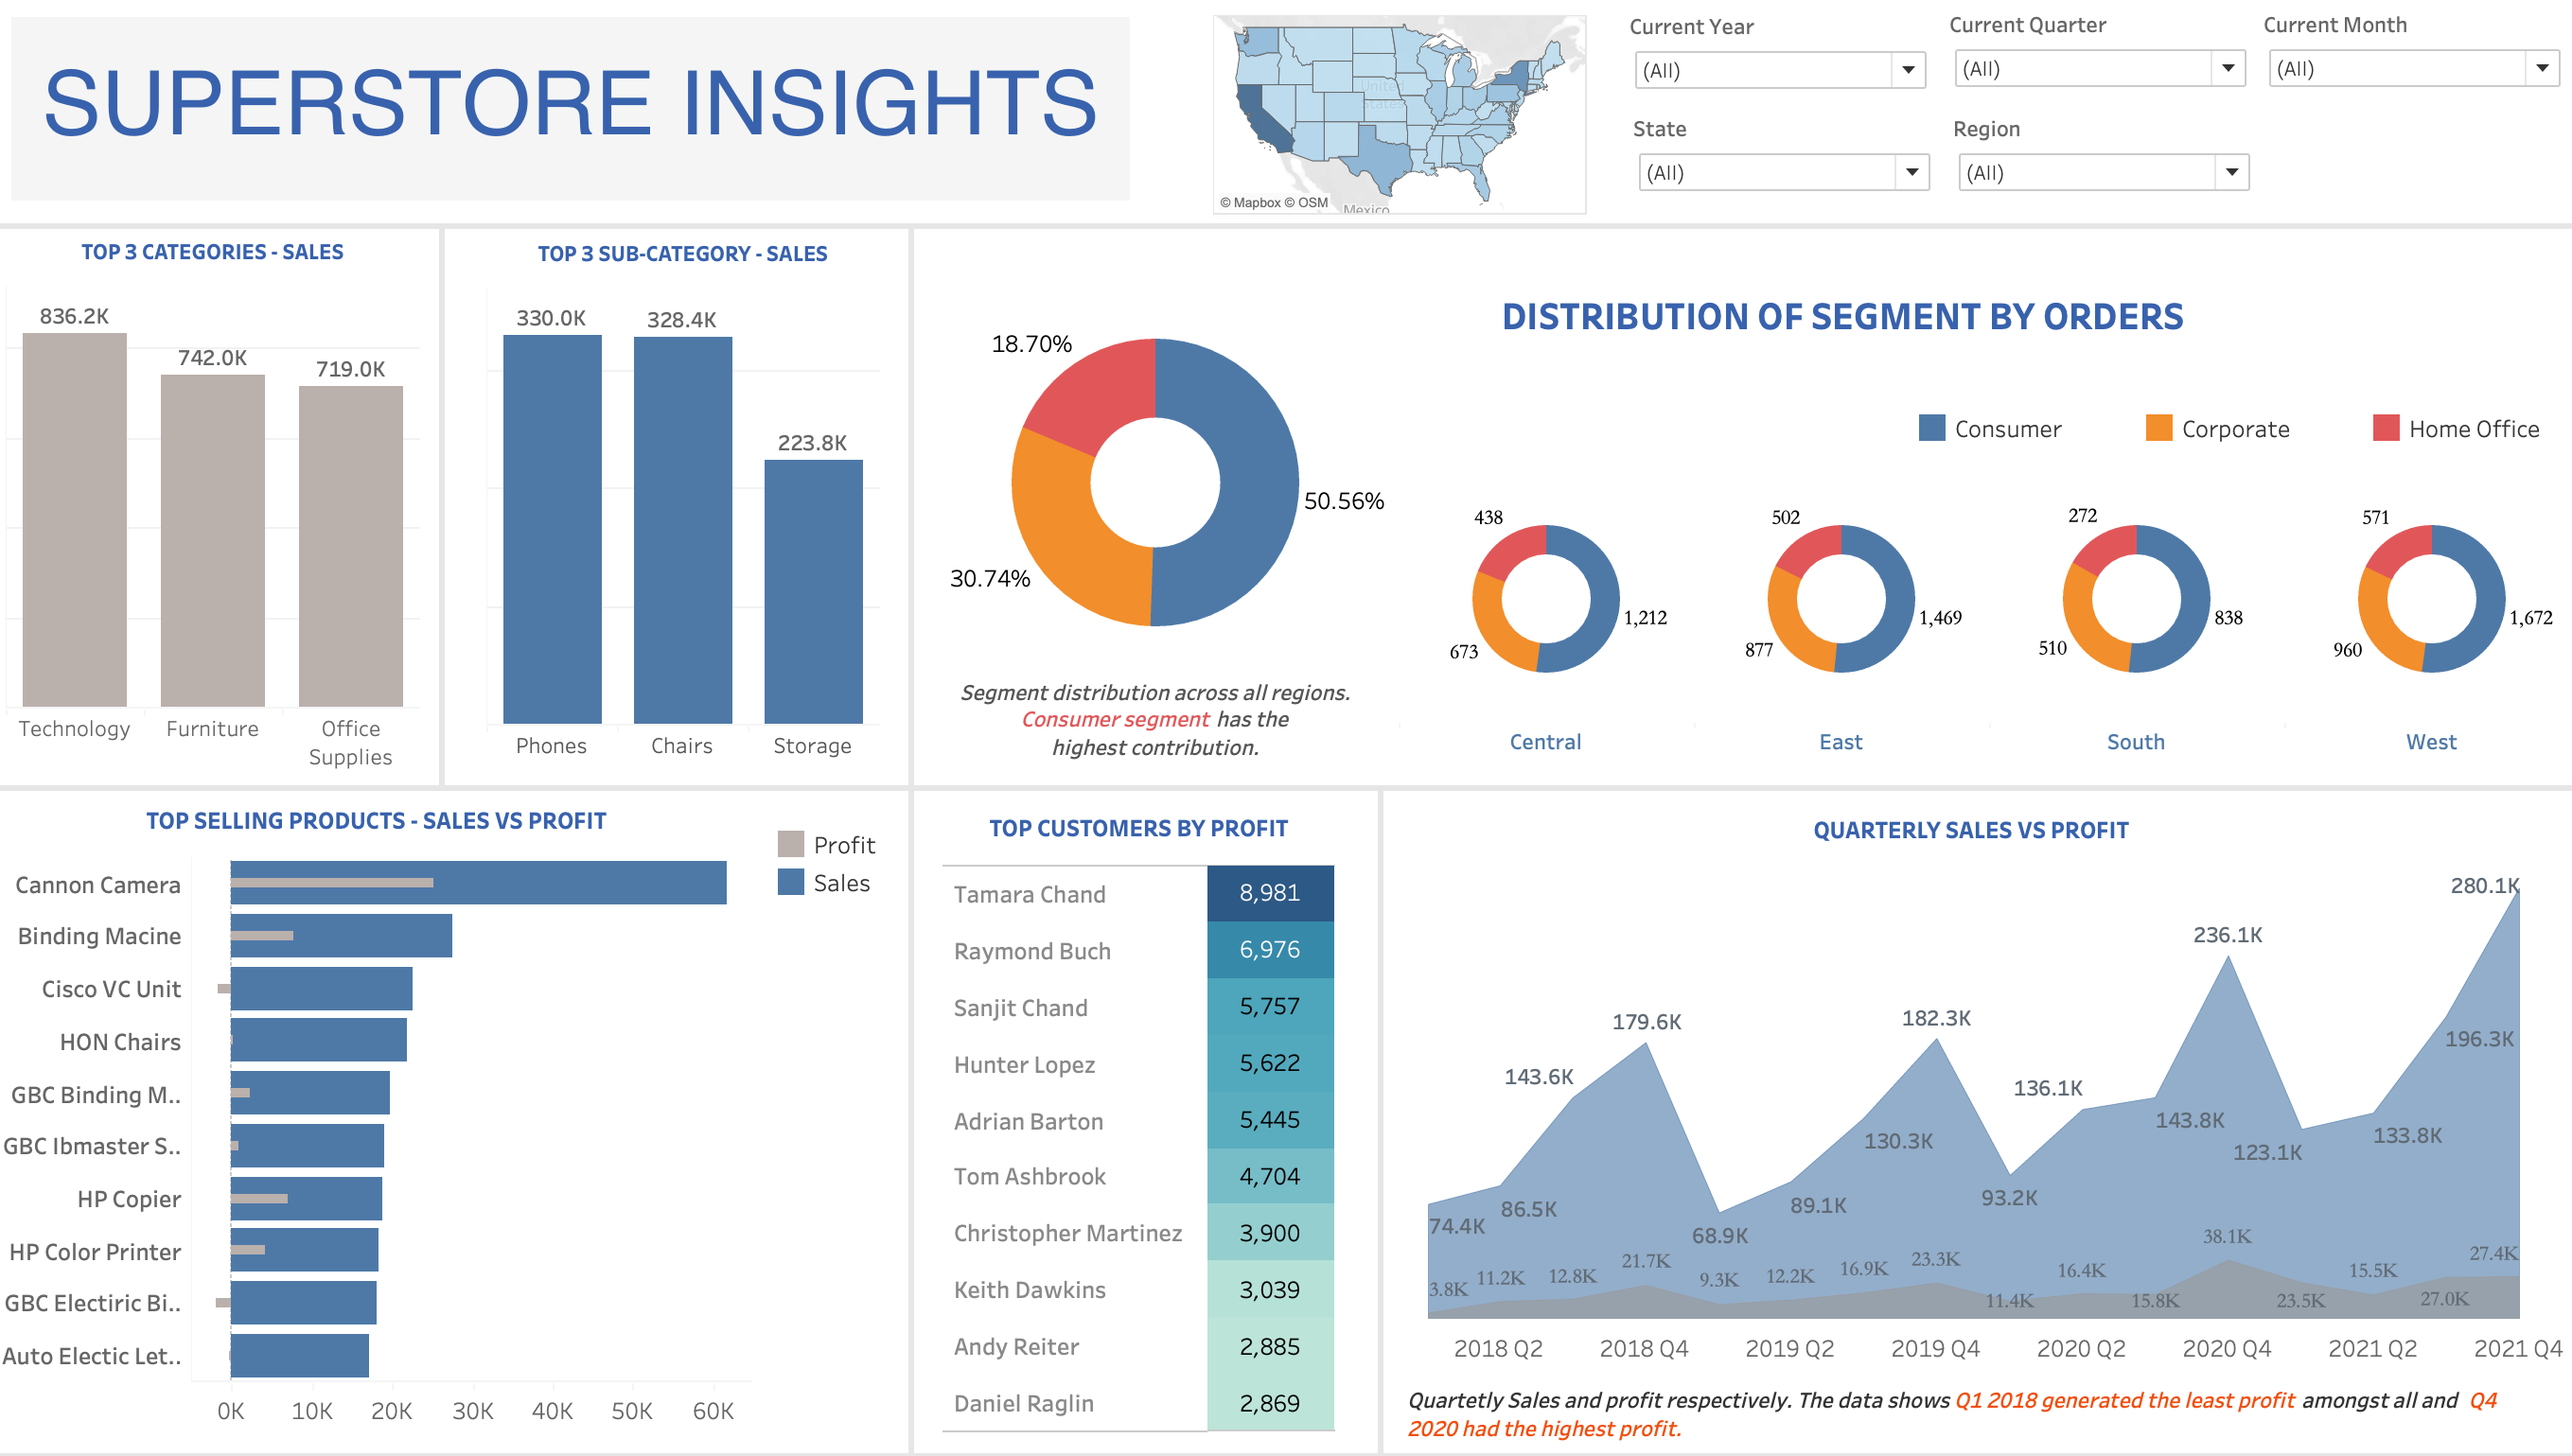

The dashboard page shown, as its layout file describes it:
{"tool":"tableau","page":{"name":"Dashboard 1","canvas":[1366,768],"ordinal":0},"visuals":[{"type":"filter","title":"salevsprofit","param":"[federated.1i0ysrr09gpvkl1dki29y0dqn5mm].[qr:Order Date:ok]","box":[1033,5,160,62]},{"type":"filter","title":"salevsprofit","param":"[federated.1i0ysrr09gpvkl1dki29y0dqn5mm].[mn:Order Date:ok]","box":[1199,5,160,66]},{"type":"filter","title":"salevsprofit","param":"[federated.1i0ysrr09gpvkl1dki29y0dqn5mm].[yr:Order Date:ok]","box":[864,6,160,56]},{"type":"worksheet","title":"distribution_sales","mark":"Automatic","box":[644,8,198,106]},{"type":"text","box":[9,9,591,97]},{"type":"filter","title":"salevsprofit","param":"[federated.1i0ysrr09gpvkl1dki29y0dqn5mm].[none:State:nk]","box":[866,60,160,70]},{"type":"filter","title":"salevsprofit","param":"[federated.1i0ysrr09gpvkl1dki29y0dqn5mm].[none:Region:nk]","box":[1035,60,160,50]},{"type":"worksheet","title":"Sheet 9","mark":"Pie","rows":["Calculation_890657197516079106","Calculation_890657197516079106"],"box":[491,103,245,289]},{"type":"blank","box":[235,119,3,297]},{"type":"blank","box":[483,120,3,297]},{"type":"worksheet","title":"top_category","mark":"Automatic","rows":["Sales"],"cols":["Category"],"box":[6,121,219,293]},{"type":"worksheet","title":"t3_subcategory","mark":"Bar","rows":["Sales"],"cols":["Sub-Category"],"box":[260,122,208,281]},{"type":"text","box":[765,143,424,46]},{"type":"worksheet","title":"segment_distribution","mark":"Pie","rows":["Calculation_890657197516079106","Calculation_890657197516079106"],"cols":["Region"],"box":[742,252,624,149]},{"type":"text","box":[499,357,229,46]},{"type":"blank","box":[483,379,3,387]},{"type":"blank","box":[731,416,3,353]},{"type":"legend","title":"top_selling_product","param":"[federated.1i0ysrr09gpvkl1dki29y0dqn5mm].[:Measure Names]","box":[411,418,77,58]},{"type":"worksheet","title":"top_selling_product","mark":"Automatic","rows":["Product Name"],"box":[4,421,415,339]},{"type":"worksheet","title":"revenue_contribution","mark":"Square","rows":["Customer Name"],"box":[501,425,208,332]},{"type":"worksheet","title":"salevsprofit","mark":"Area","rows":["Sales","Profit"],"cols":["Order Date"],"box":[729,426,634,301]},{"type":"text","box":[744,727,600,40]}]}

Visuals, with their boxes in screenshot pixels (x1, y1, x2, y2), scaled from the page's 1366x768 canvas onto the 2572x1456 screenshot:
"salevsprofit" filter: pyautogui.locateOnScreen(1945, 9, 2246, 127)
"salevsprofit" filter: pyautogui.locateOnScreen(2258, 9, 2559, 134)
"salevsprofit" filter: pyautogui.locateOnScreen(1627, 11, 1929, 117)
"distribution_sales" worksheet: pyautogui.locateOnScreen(1212, 15, 1585, 216)
text: pyautogui.locateOnScreen(17, 17, 1130, 201)
"salevsprofit" filter: pyautogui.locateOnScreen(1630, 114, 1931, 247)
"salevsprofit" filter: pyautogui.locateOnScreen(1948, 114, 2250, 208)
"Sheet 9" worksheet (Pie marks): pyautogui.locateOnScreen(925, 195, 1385, 744)
blank: pyautogui.locateOnScreen(443, 225, 449, 789)
blank: pyautogui.locateOnScreen(909, 227, 915, 791)
"top_category" worksheet: pyautogui.locateOnScreen(11, 229, 424, 785)
"t3_subcategory" worksheet (Bar marks): pyautogui.locateOnScreen(489, 231, 881, 764)
text: pyautogui.locateOnScreen(1440, 272, 2239, 359)
"segment_distribution" worksheet (Pie marks): pyautogui.locateOnScreen(1397, 478, 2571, 761)
text: pyautogui.locateOnScreen(940, 676, 1371, 764)
blank: pyautogui.locateOnScreen(909, 718, 915, 1452)
blank: pyautogui.locateOnScreen(1377, 789, 1382, 1455)
"top_selling_product" legend: pyautogui.locateOnScreen(774, 793, 919, 903)
"top_selling_product" worksheet: pyautogui.locateOnScreen(8, 798, 789, 1441)
"revenue_contribution" worksheet (Square marks): pyautogui.locateOnScreen(943, 806, 1335, 1435)
"salevsprofit" worksheet (Area marks): pyautogui.locateOnScreen(1373, 808, 2566, 1378)
text: pyautogui.locateOnScreen(1401, 1378, 2530, 1454)
